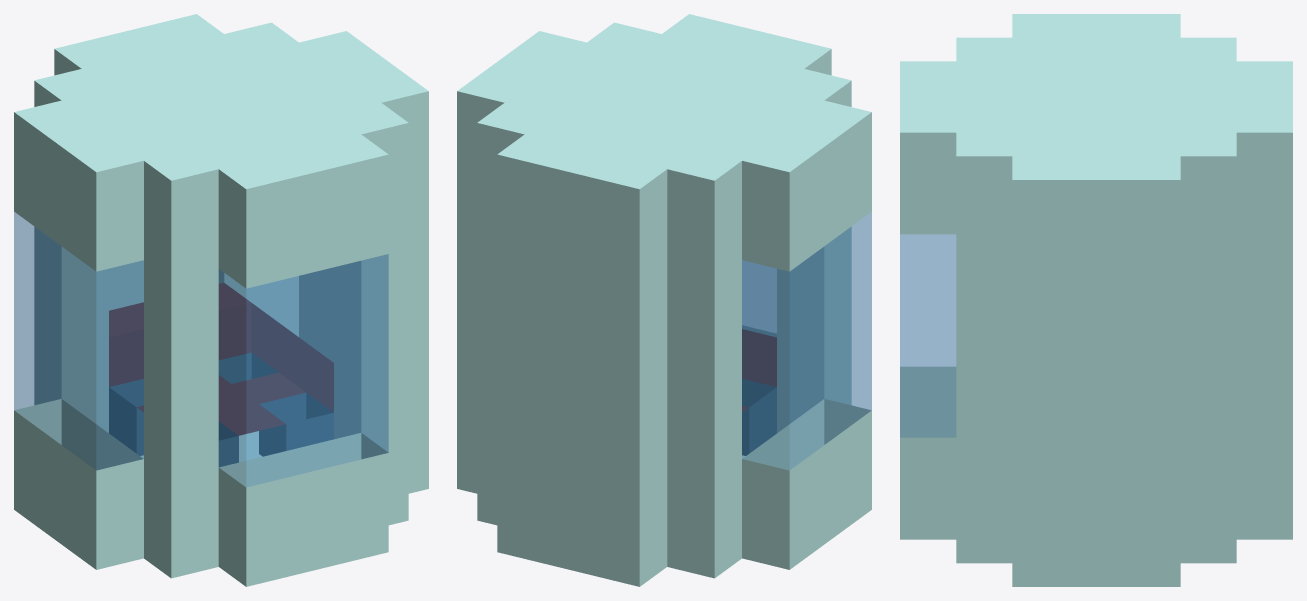
The picture shows the model from 3 angles, left to right: view 1: azimuth 30°, elevation 25°; view 2: azimuth 150°, elevation 25°; view 3: azimuth 270°, elevation 25°; orthographic projection. The views are drawn at different scales.
Visible parts, largest first — view 1: gaschamber; view 2: gaschamber; view 3: gaschamber.
Part boxes in pixels (x1,y1,x2,y2): gaschamber: (14, 14, 428, 586); gaschamber: (457, 14, 871, 586); gaschamber: (900, 14, 1292, 586).
Size of the model in its own units: 0.7 by 0.8 by 0.7.
